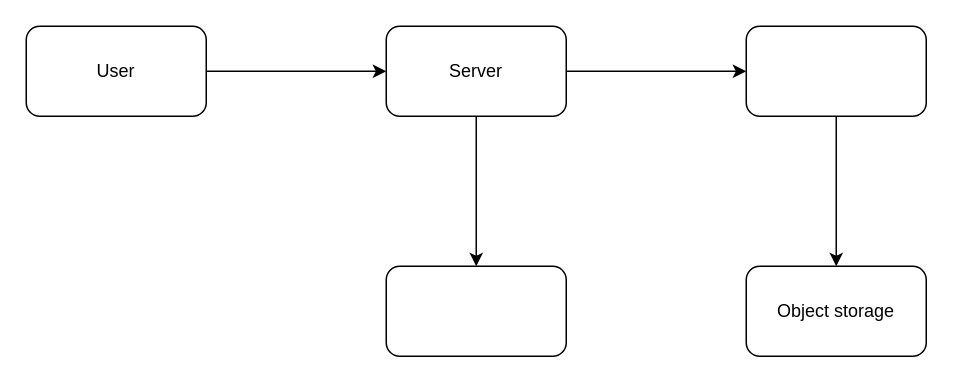
This 953x383 diagram has some shape labels left out. The centre of each missing label's shape, as x and y in pixels:
"Encoder" belongs at pixel 835 70.
"Relational DB" belongs at pixel 475 310.
